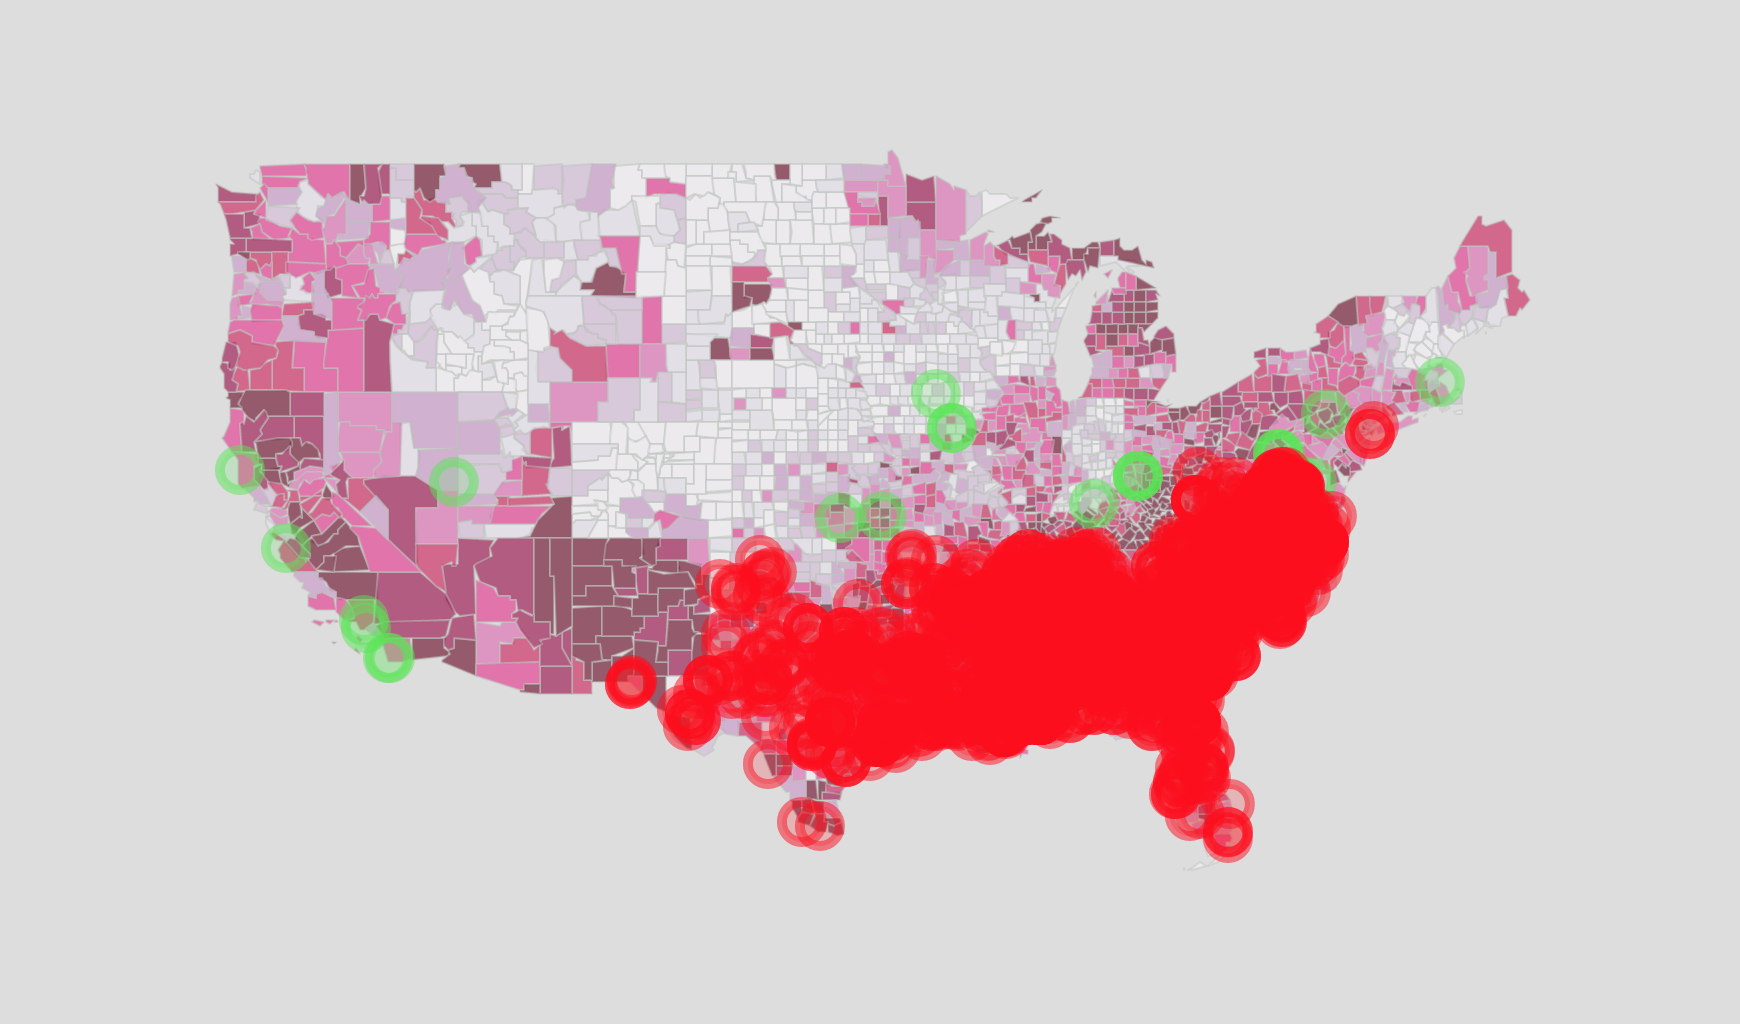

This screenshot's page, from the dashboard's own definition file:
{"tool":"tableau","page":{"name":"Dashboard 1","canvas":[1000,800],"ordinal":0},"visuals":[{"type":"worksheet","title":"Sheet 2","mark":"Circle","box":[0,0,420,800]},{"type":"worksheet","title":"Sheet 1","mark":"Circle","box":[420,0,420,800]},{"type":"legend","title":"Sheet 2","param":"[federated.04id06k0r0qn6o1epfiiu1t74m8r].[none:country_txt:nk]","box":[840,0,160,710]},{"type":"filter","title":"Sheet 1","param":"[federated.04id06k0r0qn6o1epfiiu1t74m8r].[none:iyear:qk]","box":[840,710,160,69]}]}

Visuals, with their boxes on the page's 1000x800 design canvas (x1, y1, x2, y2). These are canvas units, not pixel positions in the 1740x1024 screenshot, which may show the page scaled, cropped or inside an application window:
"Sheet 2" worksheet (Circle marks): (x1=0, y1=0, x2=420, y2=800)
"Sheet 1" worksheet (Circle marks): (x1=420, y1=0, x2=840, y2=800)
"Sheet 2" legend: (x1=840, y1=0, x2=1000, y2=710)
"Sheet 1" filter: (x1=840, y1=710, x2=1000, y2=779)
